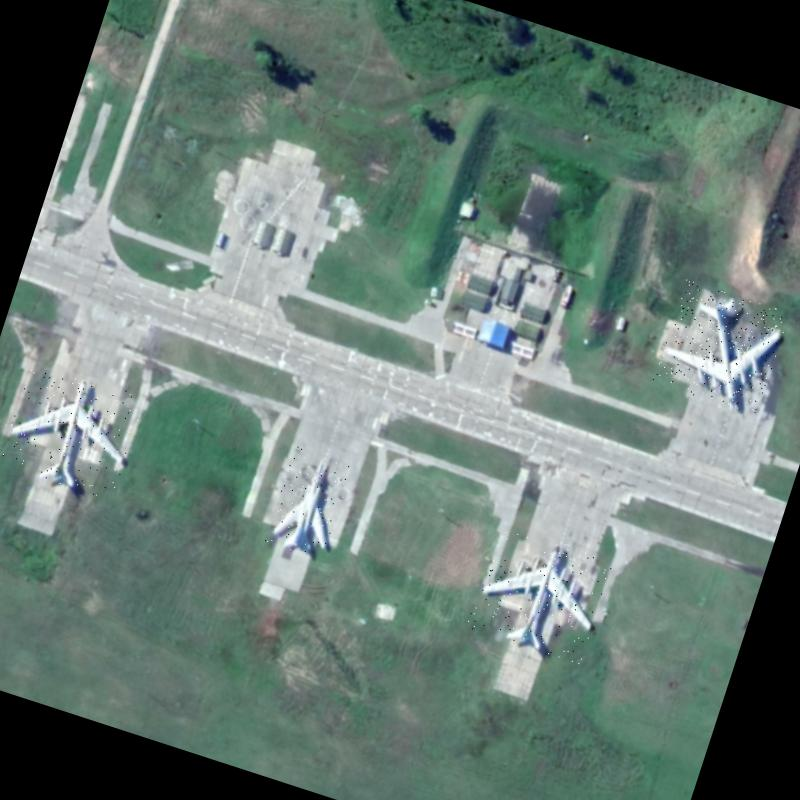A12: (264, 446, 355, 562)
A17: (465, 522, 614, 666), (0, 359, 145, 503), (651, 279, 790, 416)
